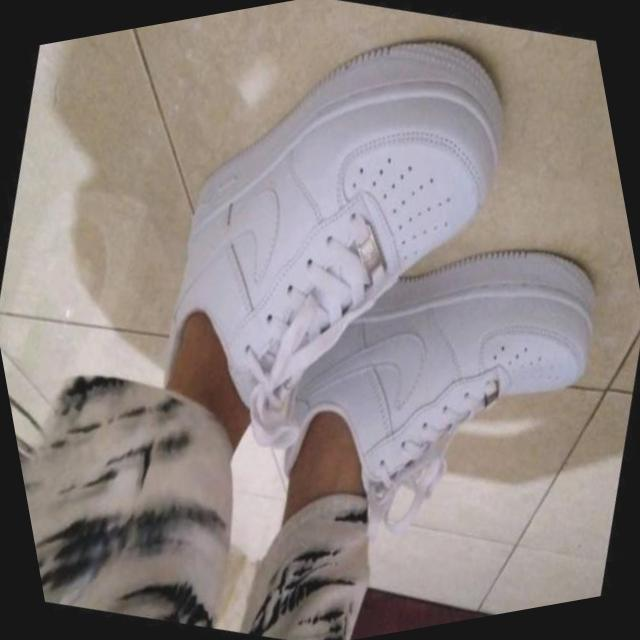nike_fake_airforce: (87, 0, 587, 515), (227, 159, 640, 578)
